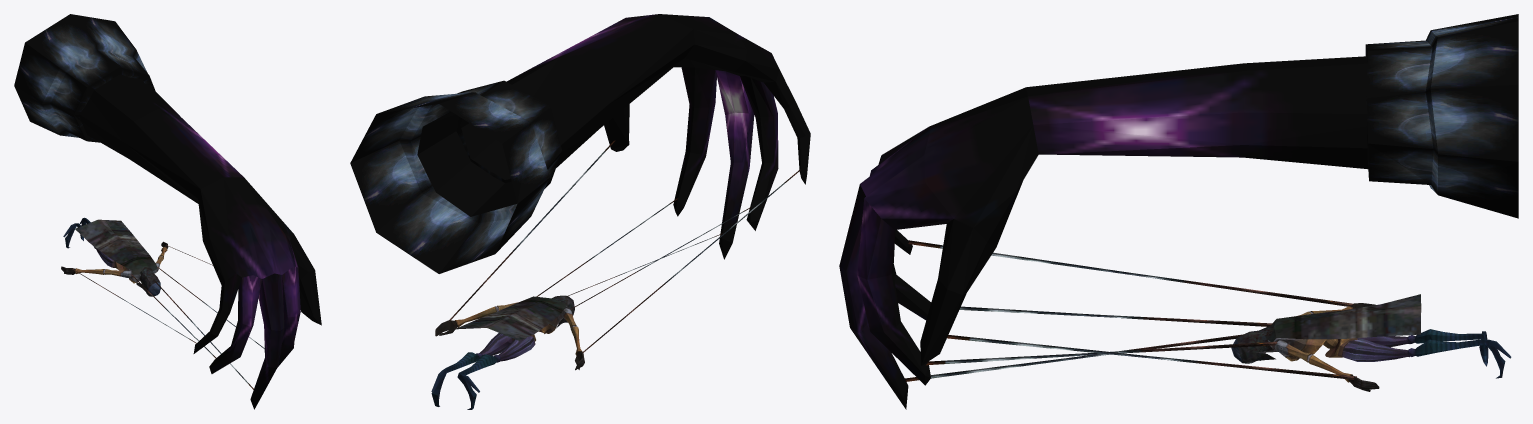
File: kuilei3.obj
The picture shows the model from 3 angles, left to right: view 1: azimuth 30°, elevation 25°; view 2: azimuth 150°, elevation 25°; view 3: azimuth 270°, elevation 25°; orthographic projection. The views are drawn at different scales.
Parts seen in each view (by area): view 1: Object02, kuilei3; view 2: Object02, kuilei3; view 3: Object02, kuilei3.
Part boxes in pixels (x1=…): Object02: x1=14, y1=14, x2=321, y2=409; kuilei3: x1=61, y1=217, x2=168, y2=296; Object02: x1=350, y1=14, x2=810, y2=352; kuilei3: x1=431, y1=295, x2=584, y2=409; Object02: x1=839, y1=14, x2=1518, y2=409; kuilei3: x1=1231, y1=294, x2=1511, y2=391.
Size of the model in its own units: 73.04 by 132 by 204.
Materials: 5 (5 with a texture image).
